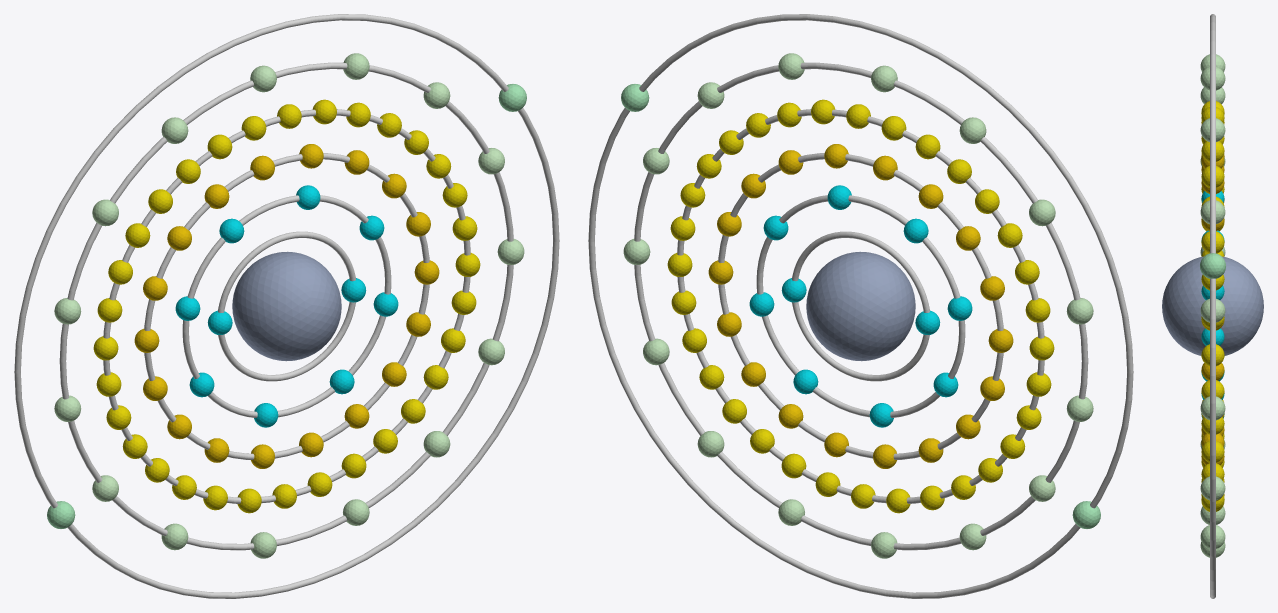
3 renders of one model, left to right at view 1: azimuth 30°, elevation 25°; view 2: azimuth 150°, elevation 25°; view 3: azimuth 270°, elevation 25°, orthographic. The views are drawn at different scales.
Parts seen in each view (by area): view 1: world; view 2: world; view 3: world.
Boxes of the visible parts, x1,y1,x2,y2 form: world: (14,14,559,598); world: (588,14,1133,598); world: (1162,14,1263,598).
Bounding box in the file's own units: 2.53 × 2.53 × 0.44.
